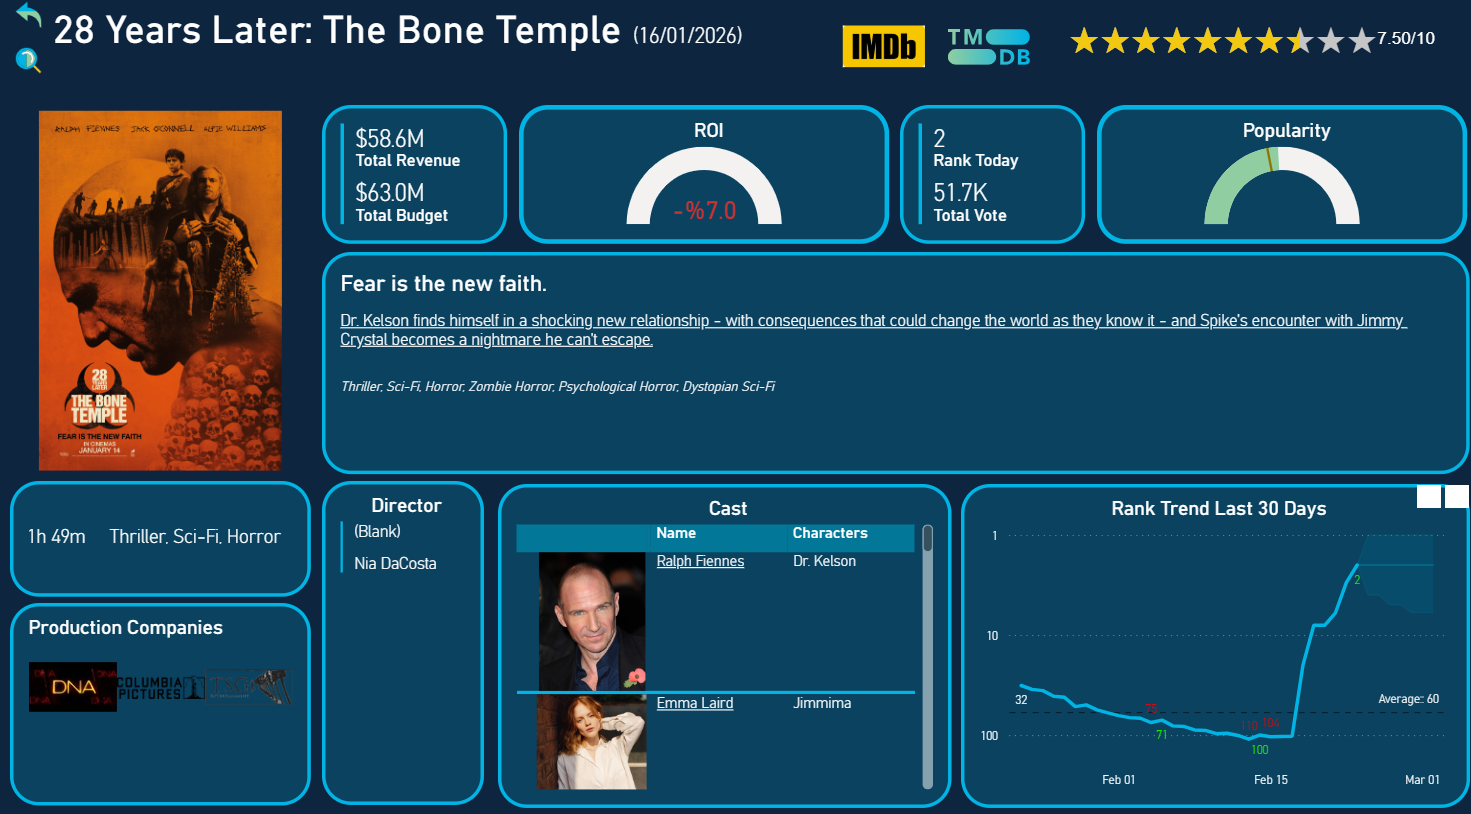

The page's visual inventory and layout, read from the dashboard file:
{"tool":"powerbi","page":{"name":"Movies Detail","canvas":[1280,720],"ordinal":2},"visuals":[{"type":"shape","title":"ShapeBottomKPIs","box":[10,430,260,100],"z":0,"group":"g1"},{"type":"kpi","title":"Rank Trend","fields":{"Goal":["fact_popularity.YesterdayRank"],"Indicator":["Sum(fact_popularity.Rank)"],"TrendLine":["fact_popularity.loaddate"]},"box":[900,430,370,280],"z":0},{"type":"card","title":"Genres","fields":{"Values":["Min(dim_content.Genres)"]},"box":[74,430,192,96],"z":1000,"group":"g1"},{"type":"pivotTable","title":"Cast","fields":{"Rows":["dim_person.Poster"],"Values":["Sum(bridge_content_person.order_no)","Min(dim_person.Name)","Min(bridge_content_person.character_names)"]},"box":[430,430,460,280],"z":1000},{"type":"card","title":"Runtime","fields":{"Values":["Min(dim_content.RuntimeDisplay)"]},"box":[10,430,80,96],"z":2000,"group":"g1"},{"type":"multiRowCard","title":"Director","fields":{"Values":["dim_person.Poster","Min(dim_person.Name)"]},"box":[280,430,140,280],"z":2000},{"type":"ratingsvisual001","title":"Rating","fields":{"measure":["Sum(dim_content.Score)"]},"box":[897,19.7,373,68.6],"z":2500,"group":"g2"},{"type":"image","title":"logoTMDB","box":[815.9,19.7,81.1,68.6],"z":3000,"group":"g2"},{"type":"ImageGrid_FC5183B9_926C_45E0_B5F7_0CE9EAF1DA9B","title":"Production Companies","fields":{"ImageURL":["dim_production_company.Poster"]},"box":[10,535,260,175],"z":3000},{"type":"image","title":"logoIMDB","box":[724.6,19.7,81.1,68.6],"z":4000,"group":"g2"},{"type":"group","id":"g1","title":"BottomKPIs","box":[10,430,260,100],"z":4000},{"type":"textbox","title":"Overview","box":[280,230,990,192],"z":5000},{"type":"textbox","title":"Title","box":[42,10,656,90],"z":5250,"group":"g2"},{"type":"image","title":"iconSearch","box":[10,50,32,32],"z":5500,"group":"g2"},{"type":"image","title":"iconBack","box":[10,10,32,32],"z":6000,"group":"g2"},{"type":"gauge","title":"Popularity","fields":{"MaxValue":["fact_popularity.maxPopularityToday"],"MinValue":["Key Measures.M_minPopularityToday"],"TargetValue":["Key Measures.M_contentYesterdayPopularity"],"Y":["fact_popularity.Today Popularity"]},"box":[950,105,320,120],"z":6000},{"type":"multiRowCard","title":"TotalVotes","fields":{"Values":["fact_popularity.Rank Today","dim_content.Total Vote Display"]},"box":[780,105,160,120],"z":7000},{"type":"gauge","title":"ROI","fields":{"Y":["Key Measures.M_ROI%"]},"box":[450,105,320,120],"z":8000},{"type":"multiRowCard","title":"RevenueBudget","fields":{"Values":["Key Measures.M_RevTest","Key Measures.M_BudgetTest"]},"box":[280,105,160,120],"z":9000},{"type":"image","title":"Poster","box":[10,105,260,321],"z":10000},{"type":"group","id":"g2","title":"Header","box":[10,10,1260,90],"z":11000}]}

Visuals, with their boxes in screenshot pixels (x1, y1, x2, y2), scaled from the page's 1280x720 canvas onto the 1471x814 screenshot:
"ShapeBottomKPIs" shape: [left=11, top=486, right=310, bottom=599]
"Rank Trend" kpi: [left=1034, top=486, right=1460, bottom=803]
"Genres" card: [left=85, top=486, right=306, bottom=595]
"Cast" pivotTable: [left=494, top=486, right=1023, bottom=803]
"Runtime" card: [left=11, top=486, right=103, bottom=595]
"Director" multiRowCard: [left=322, top=486, right=483, bottom=803]
"Rating" ratingsvisual001: [left=1031, top=22, right=1460, bottom=100]
"logoTMDB" image: [left=938, top=22, right=1031, bottom=100]
"Production Companies" ImageGrid_FC5183B9_926C_45E0_B5F7_0CE9EAF1DA9B: [left=11, top=605, right=310, bottom=803]
"logoIMDB" image: [left=833, top=22, right=926, bottom=100]
"BottomKPIs" group: [left=11, top=486, right=310, bottom=599]
"Overview" textbox: [left=322, top=260, right=1460, bottom=477]
"Title" textbox: [left=48, top=11, right=802, bottom=113]
"iconSearch" image: [left=11, top=57, right=48, bottom=93]
"iconBack" image: [left=11, top=11, right=48, bottom=47]
"Popularity" gauge: [left=1092, top=119, right=1460, bottom=254]
"TotalVotes" multiRowCard: [left=896, top=119, right=1080, bottom=254]
"ROI" gauge: [left=517, top=119, right=885, bottom=254]
"RevenueBudget" multiRowCard: [left=322, top=119, right=506, bottom=254]
"Poster" image: [left=11, top=119, right=310, bottom=482]
"Header" group: [left=11, top=11, right=1460, bottom=113]
